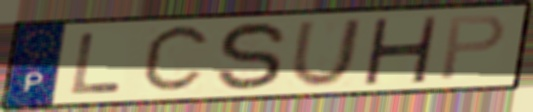C: (137, 21, 215, 99)
H: (359, 15, 442, 85)
L: (67, 31, 126, 97)
P: (436, 13, 509, 83)
S: (214, 19, 290, 94)
U: (286, 17, 367, 89)
